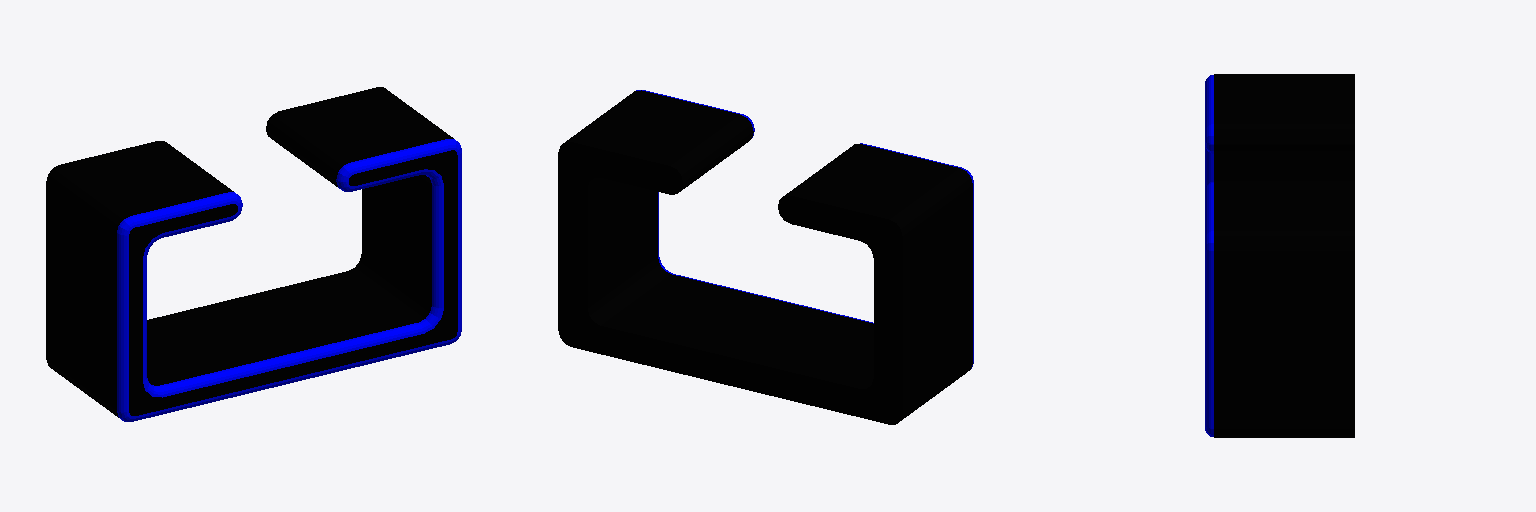
Rendered from 2_Ghost_HidyHole.obj.
3 views of the same model, side by side, from view 1: azimuth 30°, elevation 25°; view 2: azimuth 150°, elevation 25°; view 3: azimuth 270°, elevation 25° (orthographic).
Visible parts, largest first — view 1: Ghost_HidyHole_Plane; view 2: Ghost_HidyHole_Plane; view 3: Ghost_HidyHole_Plane.
Boxes of the visible parts, x1,y1,x2,y2 form: Ghost_HidyHole_Plane: [46, 87, 461, 421]; Ghost_HidyHole_Plane: [558, 90, 973, 424]; Ghost_HidyHole_Plane: [1205, 74, 1354, 437].
Size of the model in its own units: 13.27 by 7.56 by 5.